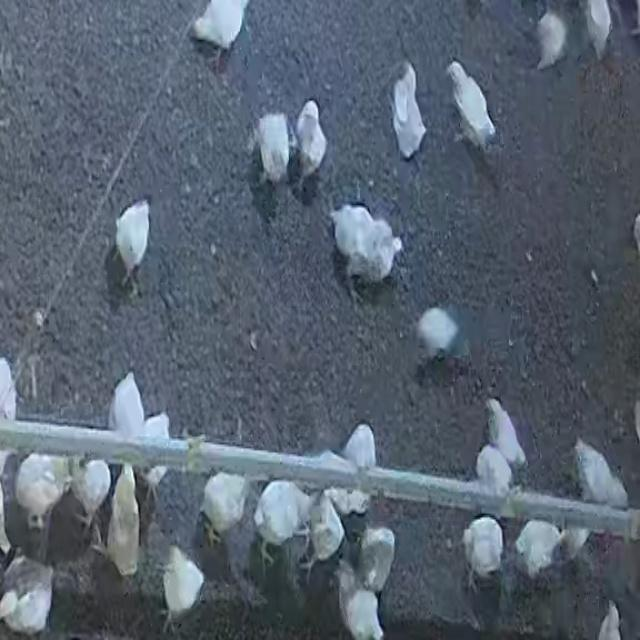chicken: (331, 201, 403, 288), (255, 474, 313, 555), (446, 58, 496, 150), (190, 0, 253, 68), (103, 463, 140, 578), (1, 555, 54, 633), (160, 543, 206, 630), (572, 436, 626, 509), (389, 61, 426, 160), (14, 452, 63, 524), (200, 471, 250, 540), (462, 514, 506, 590), (514, 518, 565, 580), (485, 398, 527, 470), (70, 455, 112, 526), (307, 492, 345, 566), (294, 98, 328, 180), (108, 372, 147, 441), (357, 524, 395, 594), (118, 197, 151, 277), (416, 306, 464, 359), (475, 445, 515, 504), (255, 110, 291, 174), (533, 4, 568, 69), (583, 0, 613, 59), (342, 424, 377, 474)
